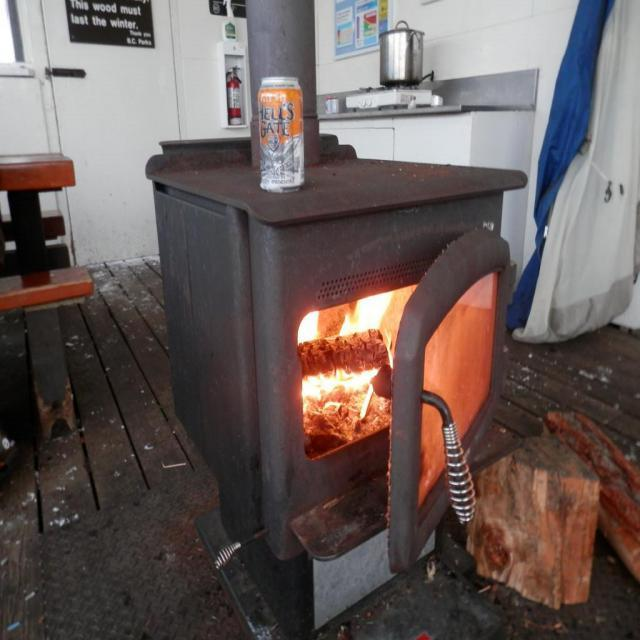Fire: (296, 305, 388, 440)
